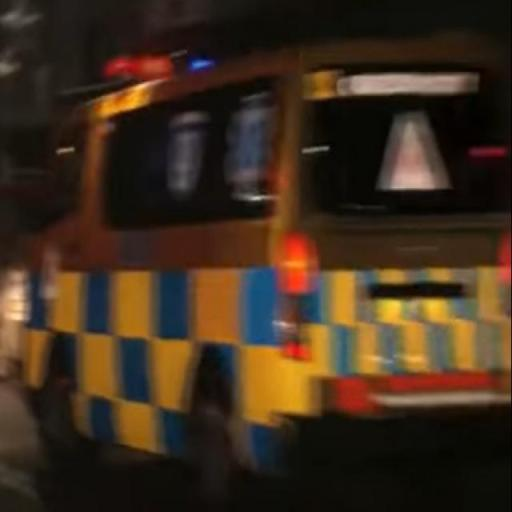Police car: (6, 50, 512, 488)
